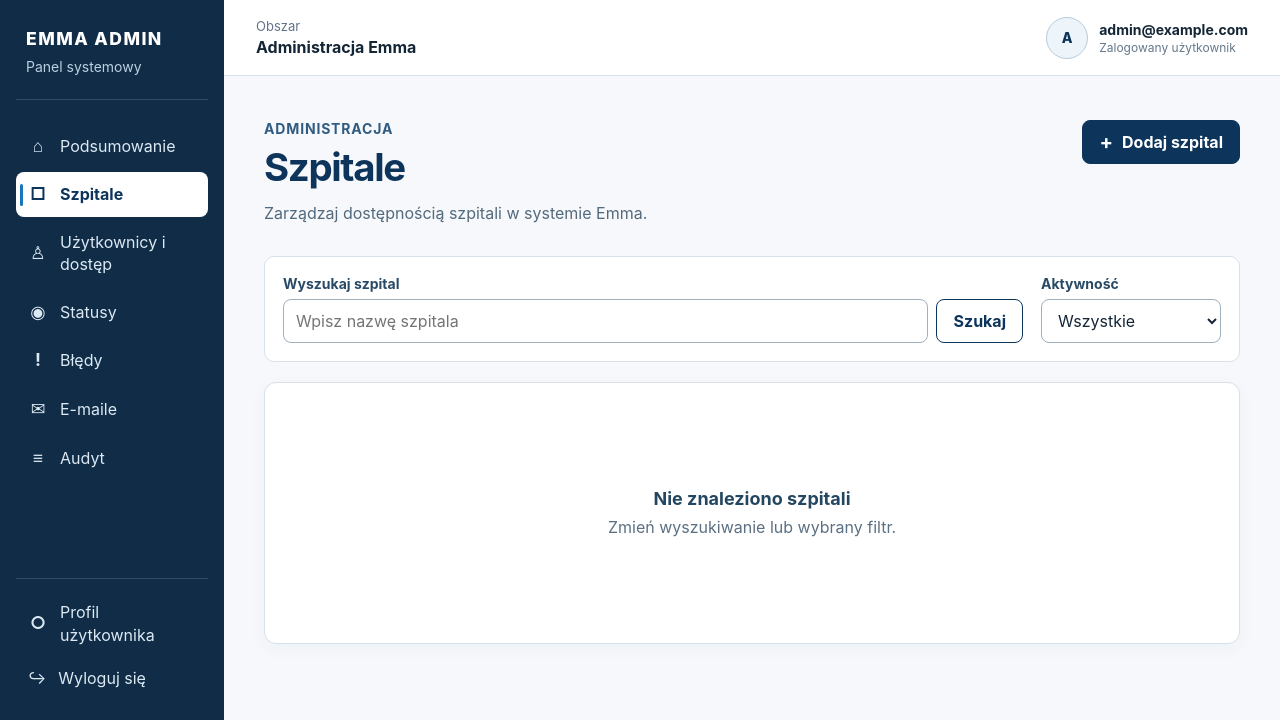
it: Admin hospitals page › creates a hospital and refreshes the list
Expected: the text "Nie znaleziono szpitali" is shown, [654, 488, 850, 510]
Click the button "+ Dodaj szpital": (1161, 142) [1082, 120, 1240, 164]
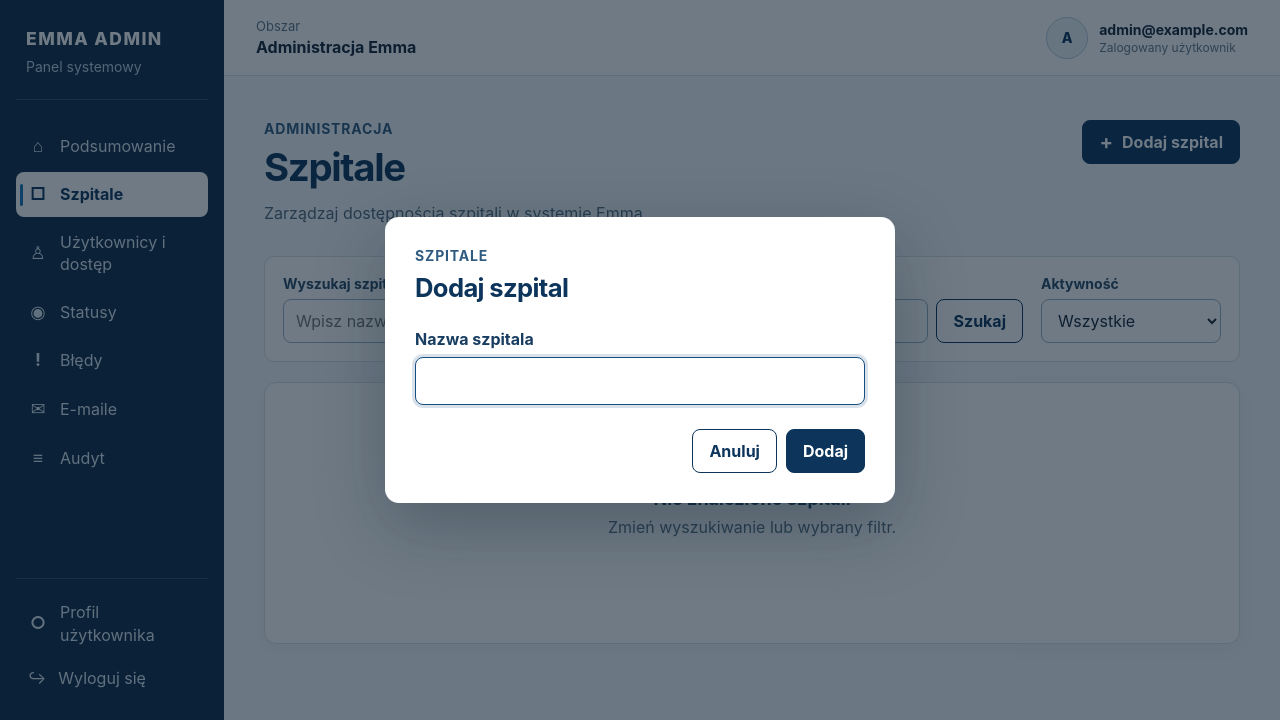
In the field labelled "Nazwa szpitala": (640, 381) [415, 357, 865, 405], type "  Szpital Miejski  "
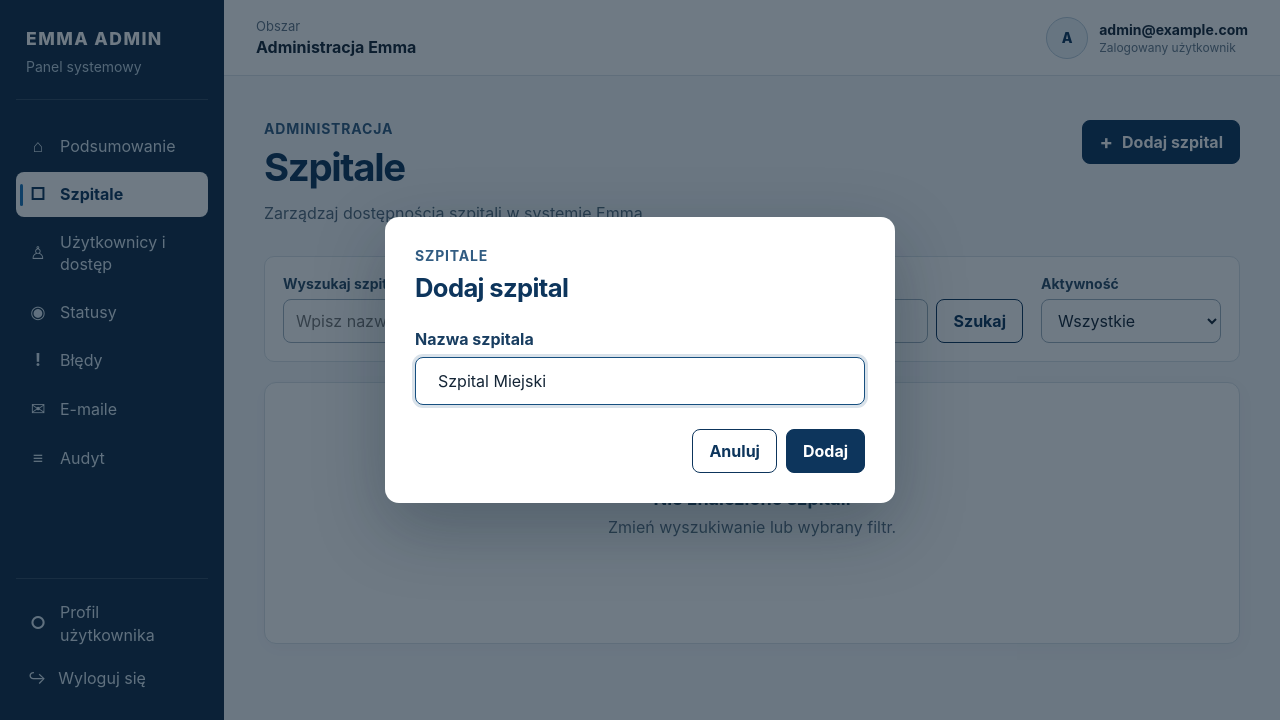
Click the button "Dodaj": (825, 451) [786, 429, 865, 473]
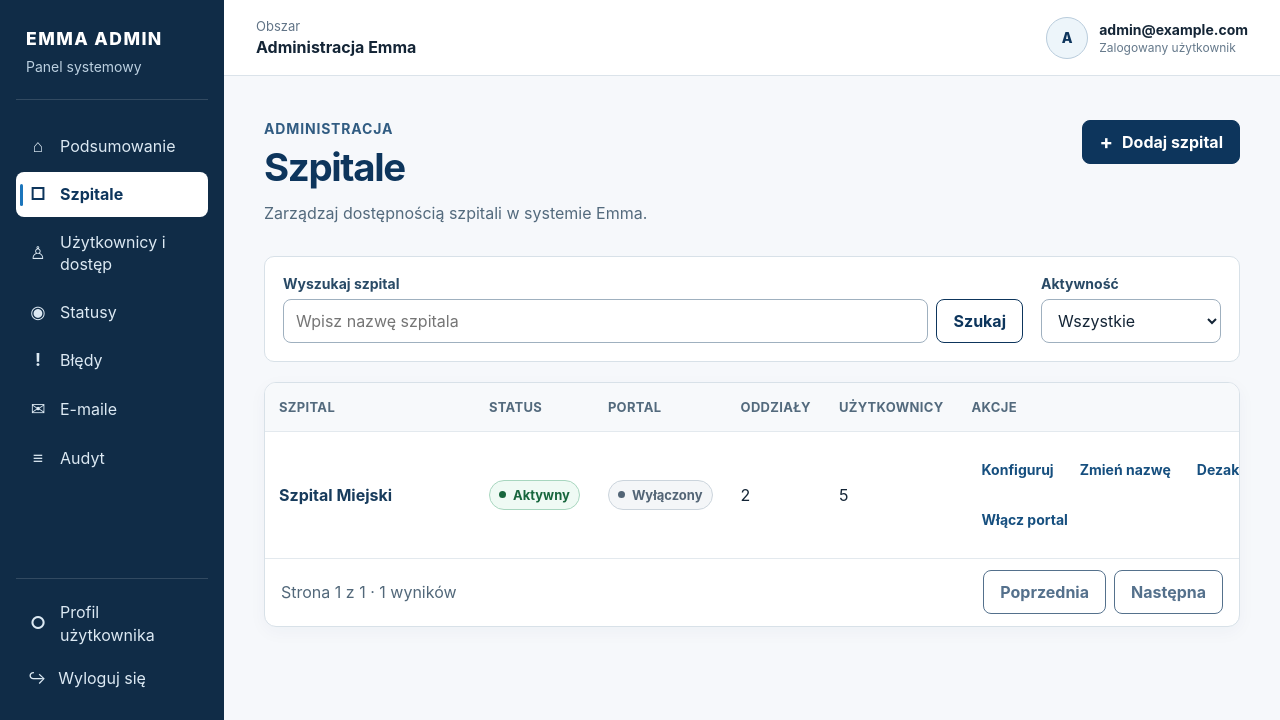
Result: the column heading "Szpital Miejski" is shown at [265, 432, 475, 558]
